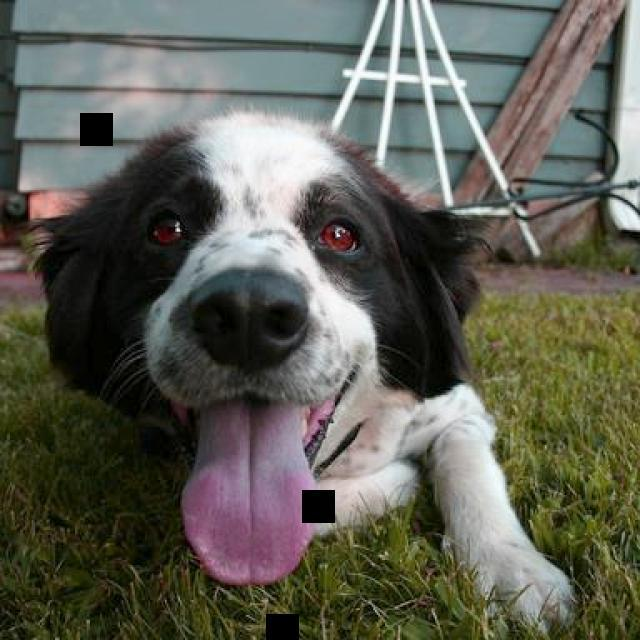adult_dog: (22, 107, 581, 633)
